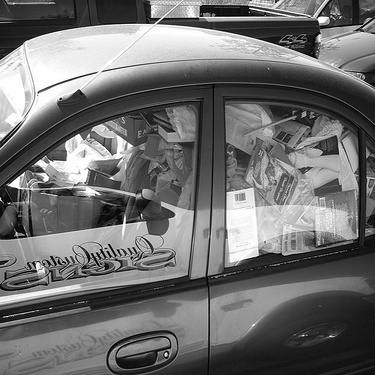car: (5, 21, 369, 369), (309, 15, 372, 96), (262, 2, 374, 31)
